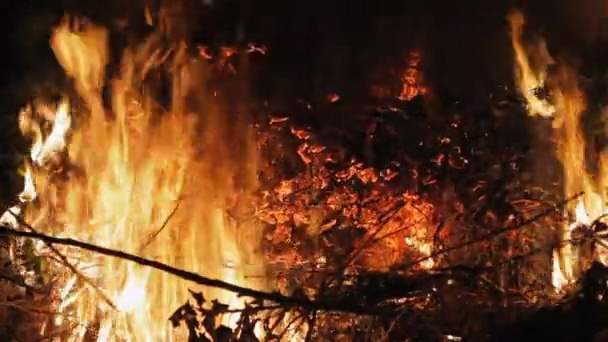fire: (1, 25, 264, 342), (550, 106, 608, 293), (509, 8, 556, 116), (405, 236, 432, 267)
